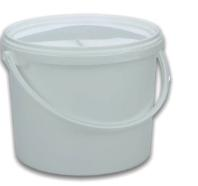SEAU: (0, 3, 175, 185)
